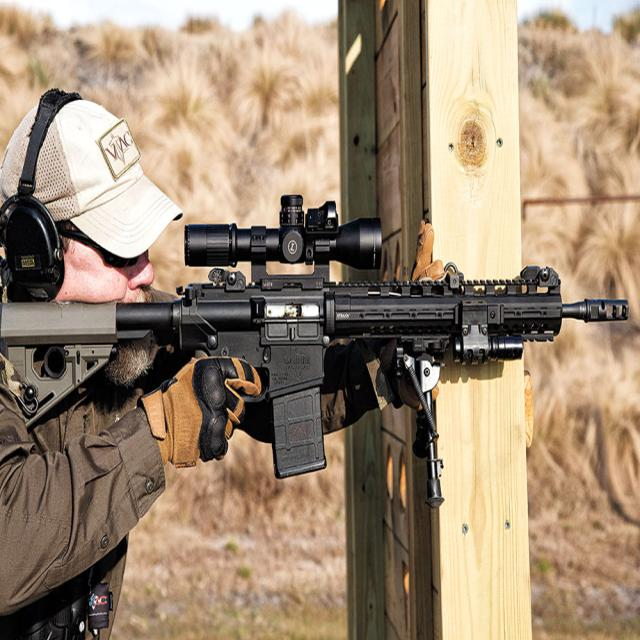Rifle: (0, 196, 630, 480)
